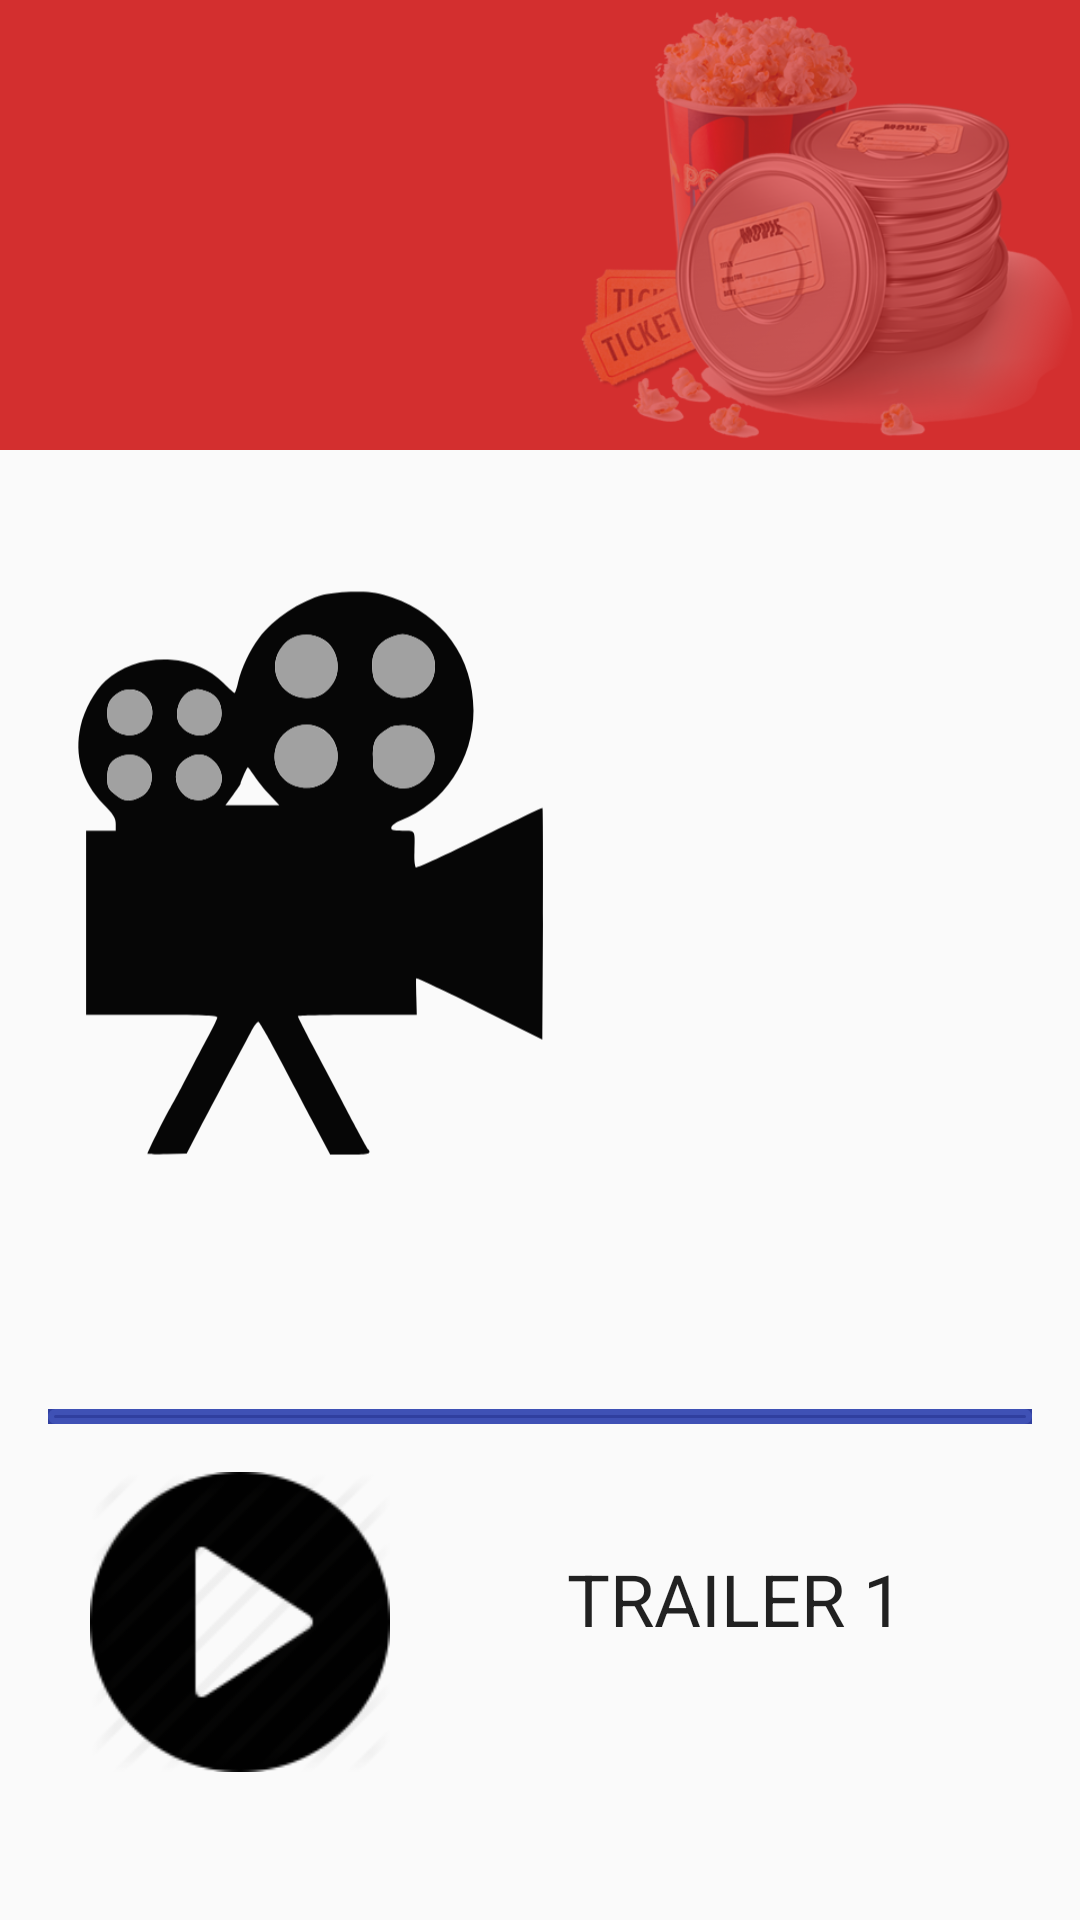

Locate icon controls on the screen. Image size 1080w x 1920h, boxes as (x1, y1, x2, y2).
TRAILER 1: (90, 1472, 390, 1772)
